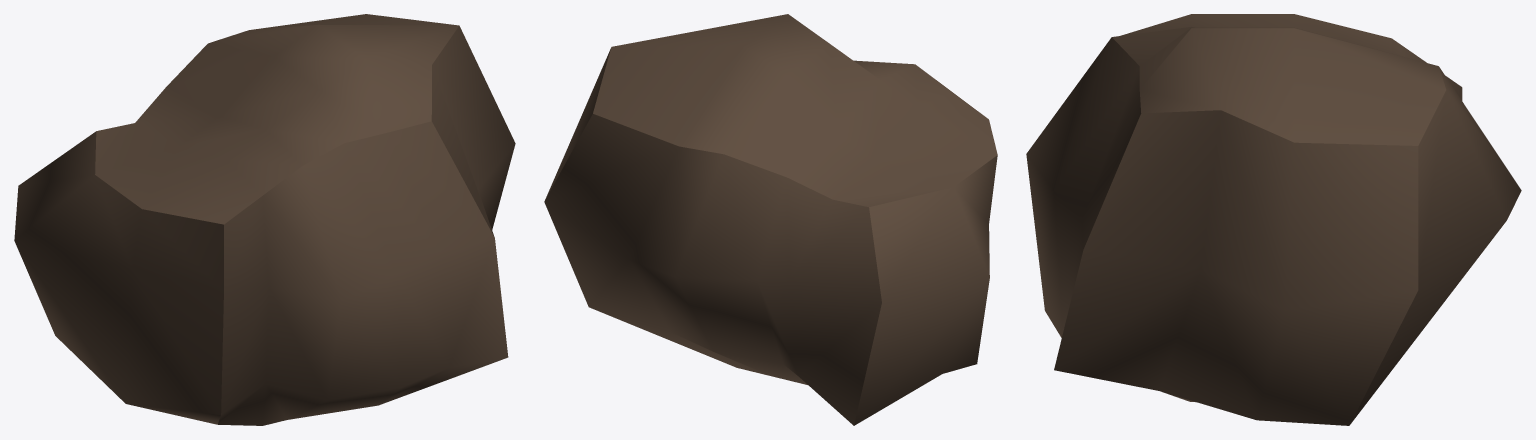
File: Bush.fbx
3 renders of one model, left to right at view 1: azimuth 30°, elevation 25°; view 2: azimuth 150°, elevation 25°; view 3: azimuth 270°, elevation 25°, orthographic. The views are drawn at different scales.
Parts seen in each view (by area): view 1: pCube82; view 2: pCube82; view 3: pCube82.
Boxes of the visible parts, <box> form: pCube82: <box>14,14,515,425</box>; pCube82: <box>544,14,997,425</box>; pCube82: <box>1026,14,1521,425</box>.
Bounding box in the file's own units: 6.58 × 4.32 × 5.41.
